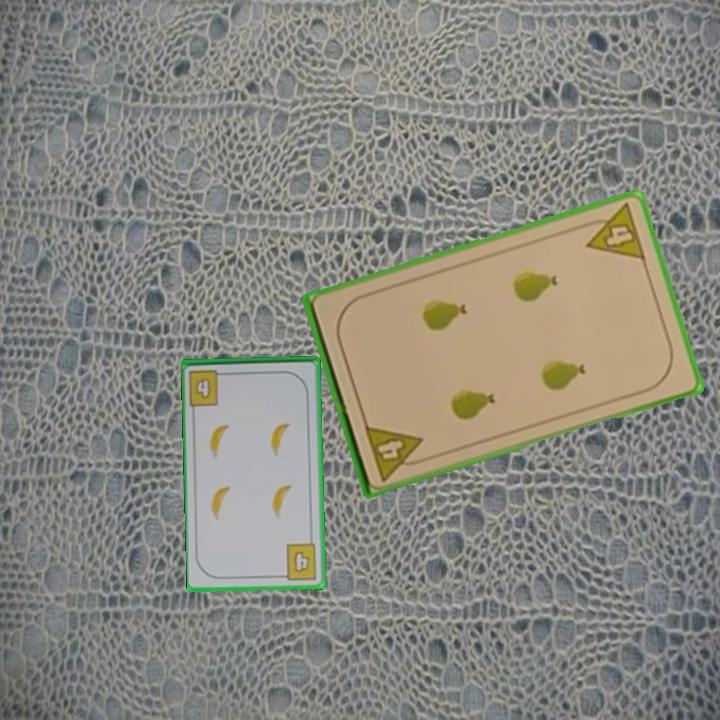4b: (186, 366, 230, 408), (277, 540, 319, 583)
4p: (577, 200, 649, 263), (361, 420, 430, 484)
